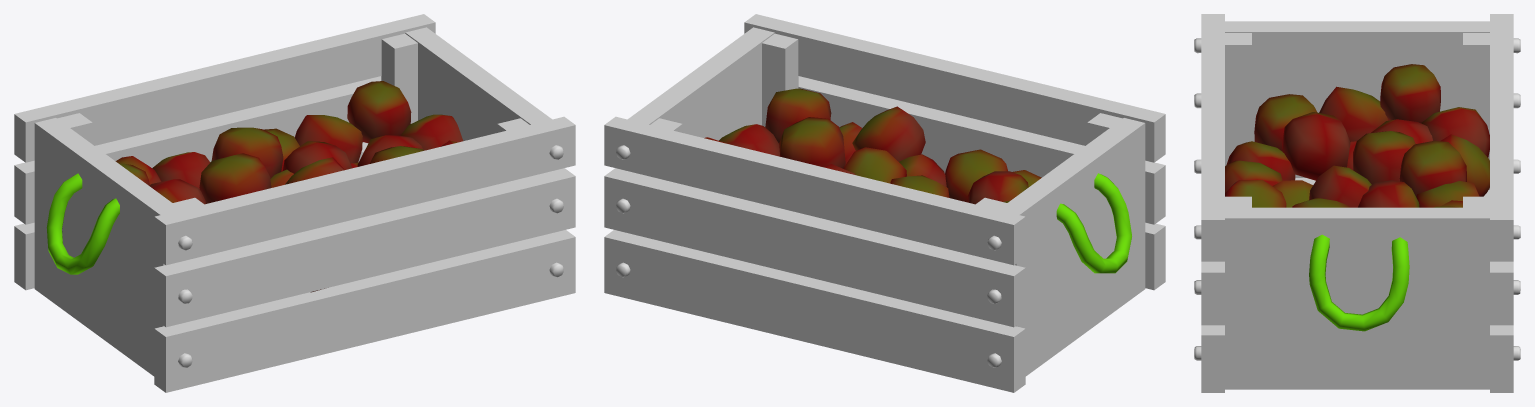
Rendered from fp_FarmCrate_Apple.fbx.
The picture shows the model from 3 angles, left to right: view 1: azimuth 30°, elevation 25°; view 2: azimuth 150°, elevation 25°; view 3: azimuth 270°, elevation 25°; orthographic projection. The views are drawn at different scales.
Parts seen in each view (by area): view 1: FarmCrate_Apple; view 2: FarmCrate_Apple; view 3: FarmCrate_Apple.
Part boxes in pixels (box(x1,y1,x2,y2)): FarmCrate_Apple: box(14, 14, 575, 392); FarmCrate_Apple: box(604, 14, 1165, 392); FarmCrate_Apple: box(1194, 14, 1520, 392).
Size of the model in its own units: 71.38 by 24.38 by 41.42.
